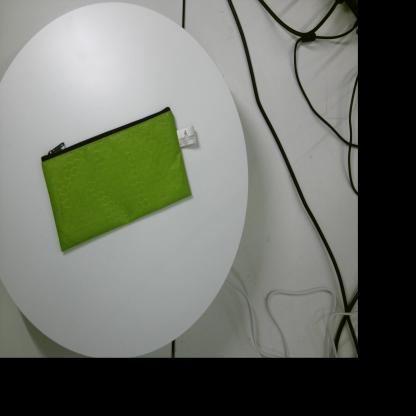Stationery: (41, 107, 197, 252)
